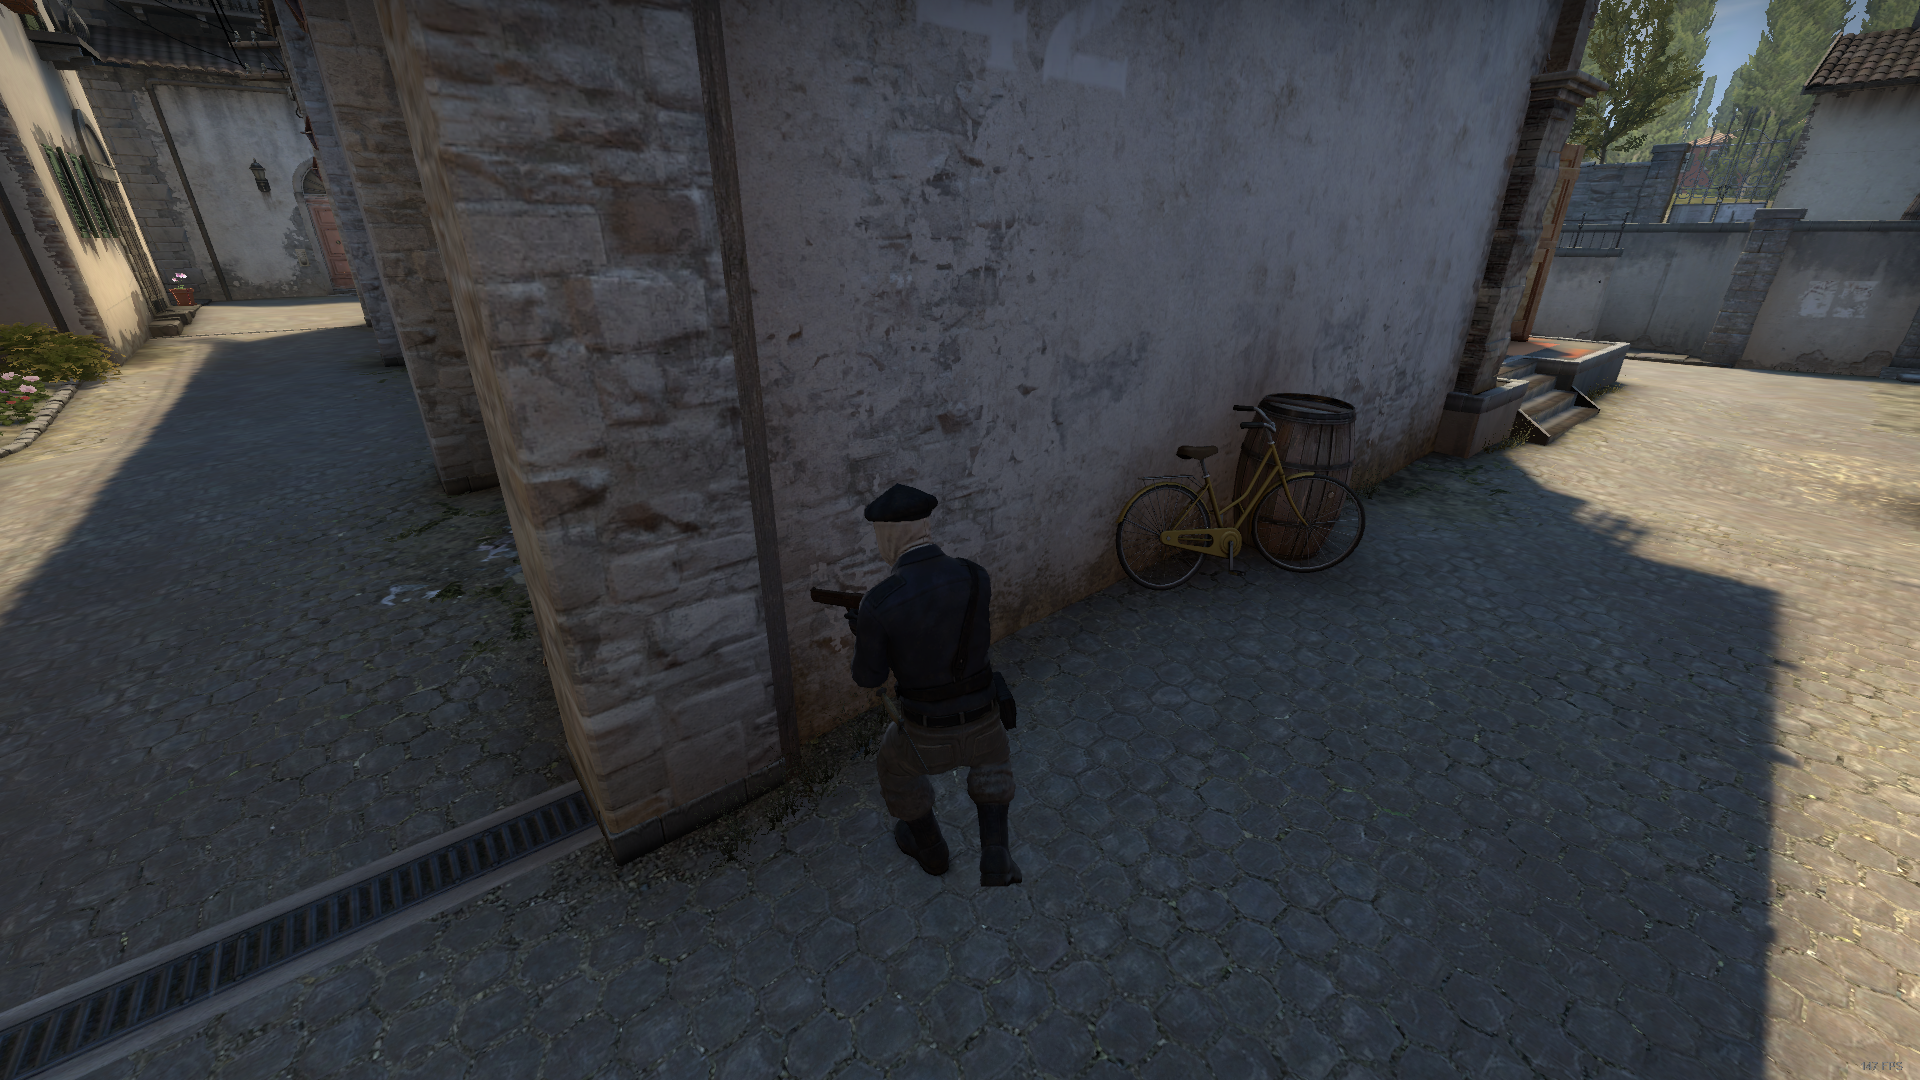t: (825, 480, 1047, 894)
